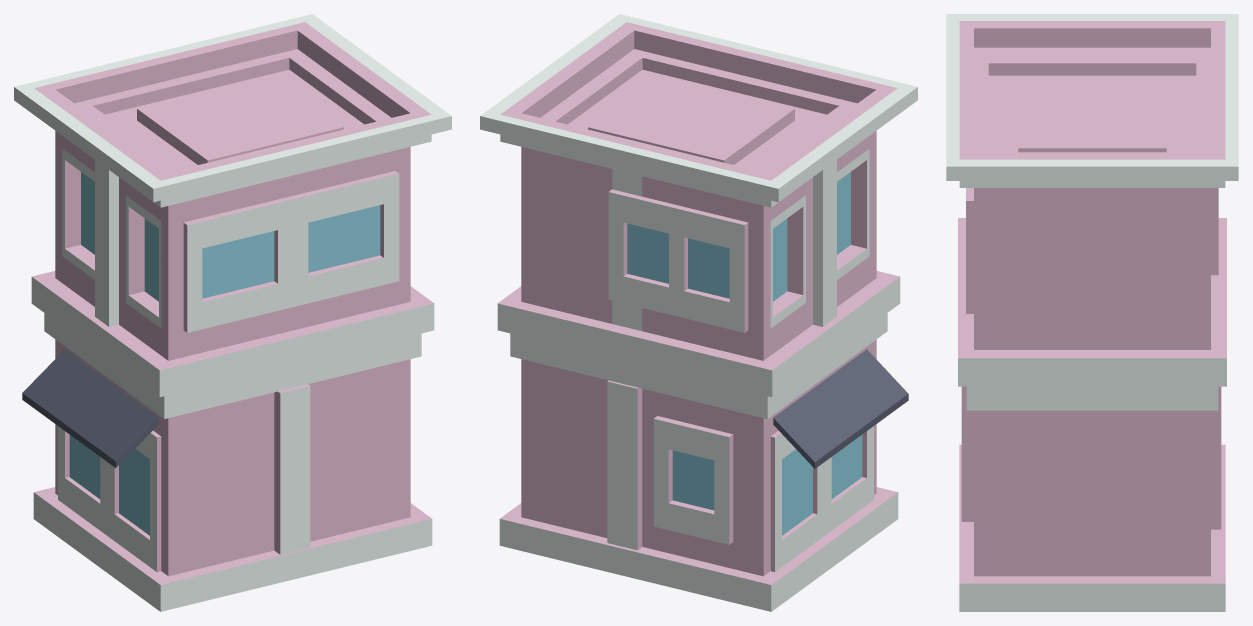
The model's file is building.fbx.
3 renders of one model, left to right at view 1: azimuth 30°, elevation 25°; view 2: azimuth 150°, elevation 25°; view 3: azimuth 270°, elevation 25°, orthographic. The views are drawn at different scales.
Parts seen in each view (by area): view 1: Cube; view 2: Cube; view 3: Cube.
Part boxes in pixels (left/top/right/bottom): Cube: left=14, top=14, right=451, bottom=611; Cube: left=480, top=14, right=917, bottom=611; Cube: left=946, top=14, right=1238, bottom=611.
Bounding box in the file's own units: 496 × 653 × 383.
